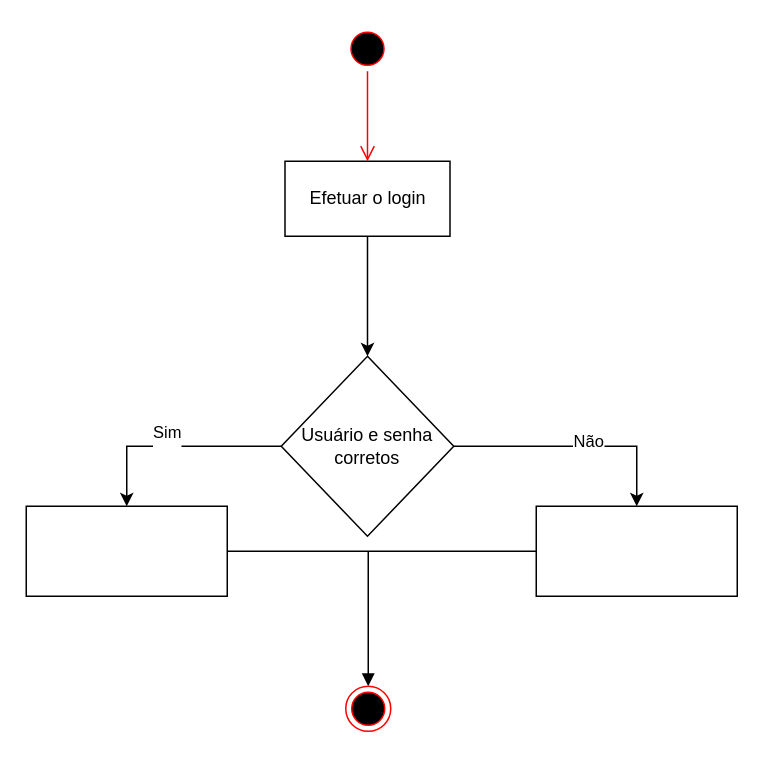
Some shapes in this 764 by 758 pixel diagram are drawn without their labels. Each missing label, with the centre of its shape:
"Avisar que os dados estão incorretos" belongs at pixel 636 550.
"Entrar no sistema" belongs at pixel 126 550.
